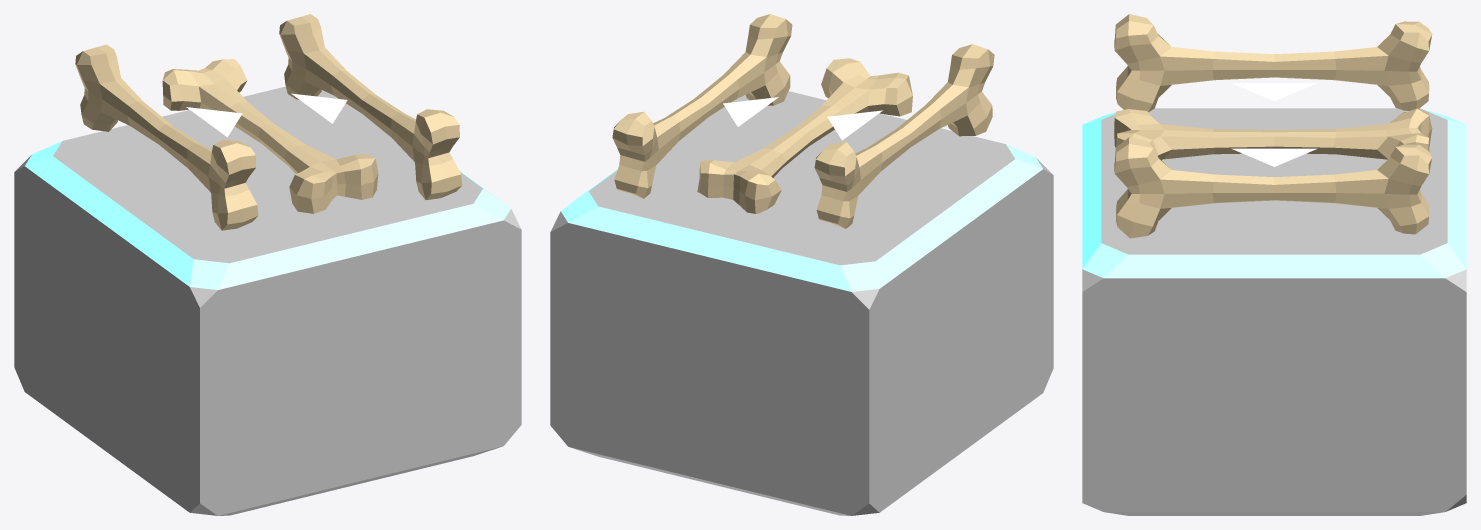
The model's file is Convoyer.fbx.
3 views of the same model, side by side, from view 1: azimuth 30°, elevation 25°; view 2: azimuth 150°, elevation 25°; view 3: azimuth 270°, elevation 25° (orthographic). The views are drawn at different scales.
Visible parts, largest first — view 1: SM_Ground, Os3, Os1, Os2, Plane, Plane2; view 2: SM_Ground, Os3, Os1, Os2, Plane2, Plane; view 3: SM_Ground, Os1, Os3, Os2, Plane, Plane2.
Boxes of the visible parts, left/top/right/bottom form: SM_Ground: left=14, top=86, right=521, bottom=515; Os3: left=75, top=44, right=258, bottom=230; Os1: left=279, top=14, right=462, bottom=199; Os2: left=162, top=59, right=378, bottom=213; Plane: left=291, top=93, right=347, bottom=123; Plane2: left=186, top=107, right=242, bottom=137; SM_Ground: left=550, top=91, right=1053, bottom=515; Os3: left=814, top=44, right=994, bottom=228; Os1: left=612, top=14, right=792, bottom=198; Os2: left=697, top=58, right=912, bottom=213; Plane2: left=827, top=110, right=882, bottom=140; Plane: left=723, top=97, right=778, bottom=126; SM_Ground: left=1082, top=108, right=1466, bottom=515; Os1: left=1114, top=137, right=1432, bottom=238; Os3: left=1114, top=14, right=1432, bottom=112; Os2: left=1114, top=108, right=1432, bottom=160; Plane: left=1231, top=148, right=1317, bottom=166; Plane2: left=1232, top=83, right=1316, bottom=101.
Size of the model in its own units: 100 by 106 by 100.
